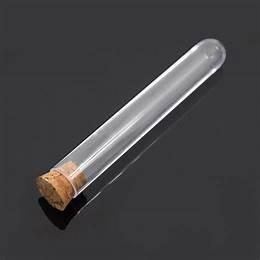Test tube: (29, 25, 227, 206)
